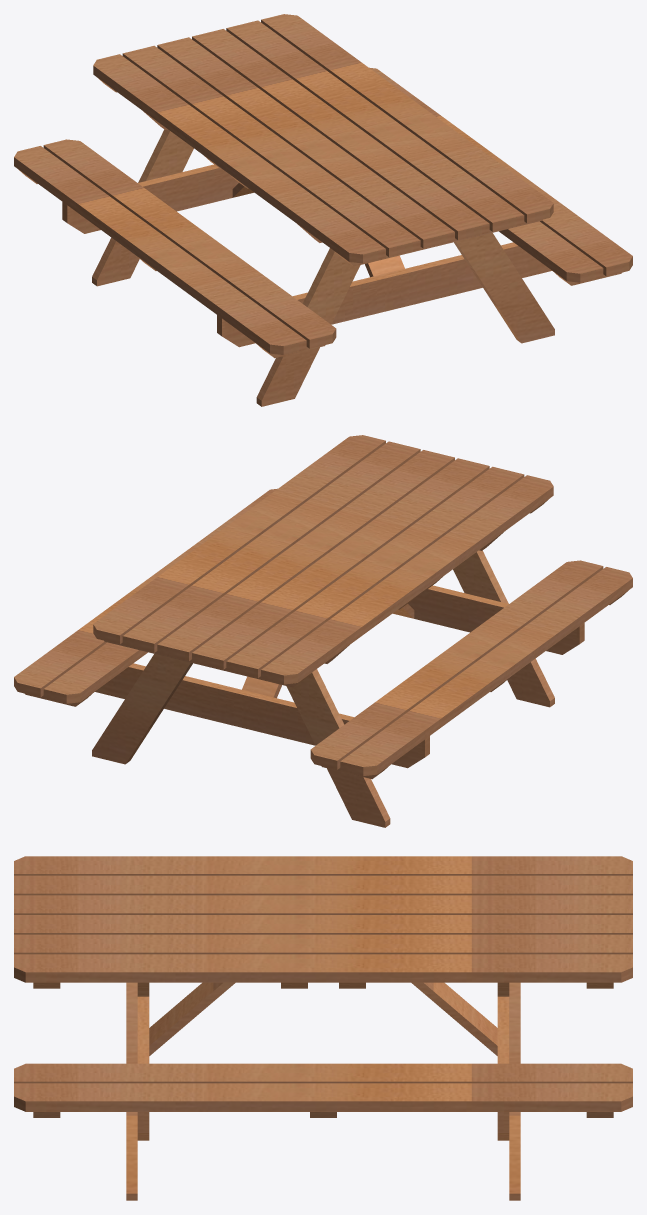
Rendered from picnic_table.fbx.
3 renders of one model, top to bottom at view 1: azimuth 30°, elevation 25°; view 2: azimuth 150°, elevation 25°; view 3: azimuth 270°, elevation 25°, orthographic. The views are drawn at different scales.
Parts seen in each view (by area): view 1: Group15, Group16, Group11, Group13, Group14, Group12, Group17, Group10, Group6, Group1, Group2, Group8 (+3 smaller); view 2: Group15, Group16, Group11, Group13, Group14, Group12, Group17, Group10, Group7, Group4, Group3, Group8 (+3 smaller); view 3: Group8, Group10, Group11, Group14, Group9, Group12, Group13, Group15, Group19, Group20, Group1, Group4 (+2 smaller).
Part boxes in pixels (x1,y1,x2,y2): Group15: [93, 54, 385, 263]; Group16: [14, 146, 306, 355]; Group11: [226, 20, 524, 231]; Group13: [157, 37, 454, 248]; Group14: [122, 45, 420, 256]; Group12: [192, 29, 489, 240]; Group17: [43, 139, 336, 348]; Group10: [261, 14, 553, 223]; Group6: [217, 242, 551, 347]; Group1: [454, 233, 554, 343]; Group2: [256, 248, 360, 406]; Group8: [369, 67, 632, 276]; Group15: [261, 475, 553, 684]; Group16: [340, 567, 632, 776]; Group11: [122, 441, 420, 652]; Group13: [192, 458, 489, 669]; Group14: [226, 466, 524, 677]; Group12: [157, 450, 454, 661]; Group17: [310, 560, 603, 769]; Group10: [93, 435, 385, 644]; Group7: [95, 663, 429, 768]; Group4: [92, 654, 192, 764]; Group3: [286, 669, 390, 827]; Group8: [14, 488, 277, 697]; Group8: [14, 1083, 632, 1111]; Group10: [14, 954, 632, 982]; Group11: [14, 934, 632, 954]; Group14: [14, 875, 632, 895]; Group9: [14, 1063, 632, 1083]; Group12: [14, 915, 632, 934]; Group13: [14, 895, 632, 914]; Group15: [14, 856, 632, 875]; Group19: [411, 982, 497, 1055]; Group20: [149, 982, 235, 1055]; Group1: [126, 982, 137, 1200]; Group4: [509, 982, 520, 1200].
Size of the model in its own units: 63 by 29 by 80.
